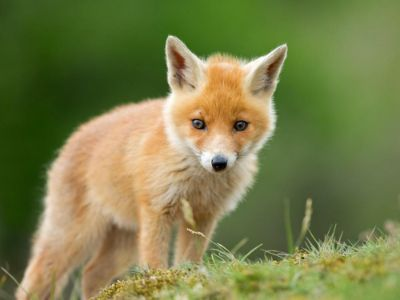fox: (23, 28, 286, 272)
